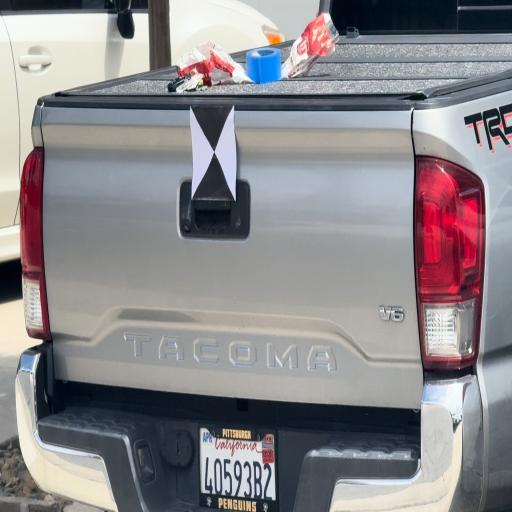target: (191, 106, 236, 200)
